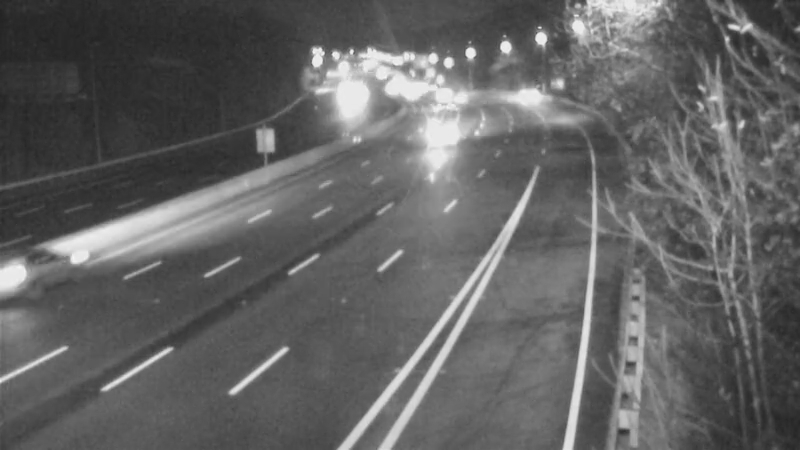vehicle: (1, 236, 66, 316), (488, 67, 538, 117), (418, 81, 468, 131), (423, 108, 473, 158)
